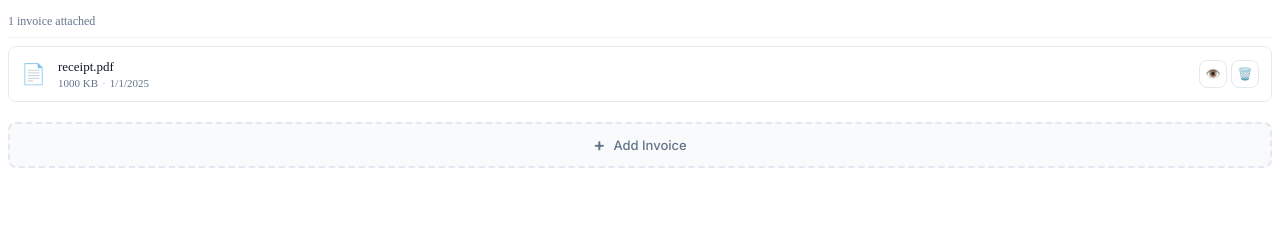
Scenario: Invoice Management Operations Integration › Enhanced Invoice Management Operations › should handle operation errors gracefully
This screenshot has width=1280, height=226.
# Start delete operation
What coordinates should you click on to do the following:
click the button named "delete receipt.pdf"
I would click on:
 (1245, 74)
Its box is [1231,60,1259,88].
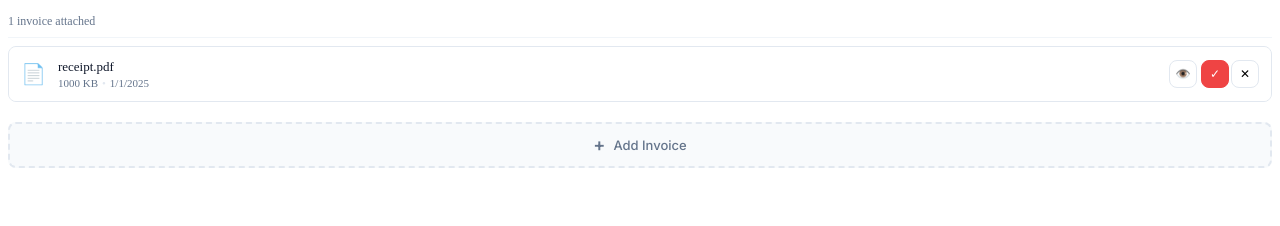
What coordinates should you click on to do the following:
click the button titled "Confirm delete"
I would click on:
 (1215, 74)
Its box is [1201,60,1229,88].
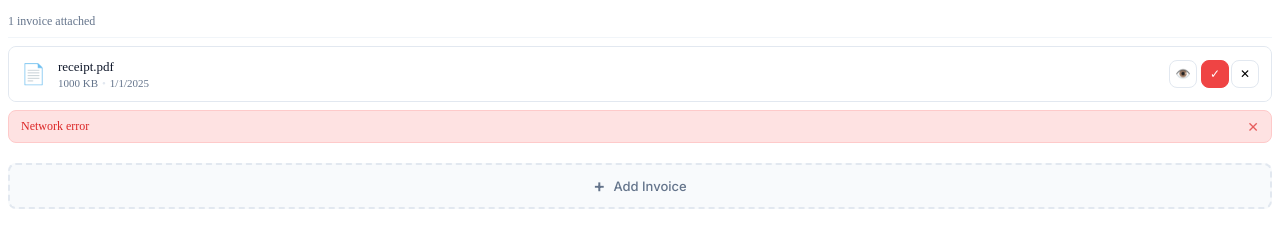
Now the message "Network error ✕" is shown, box [8,110,1272,143]
Now the text "Network error" is shown, box [21,119,89,133]
